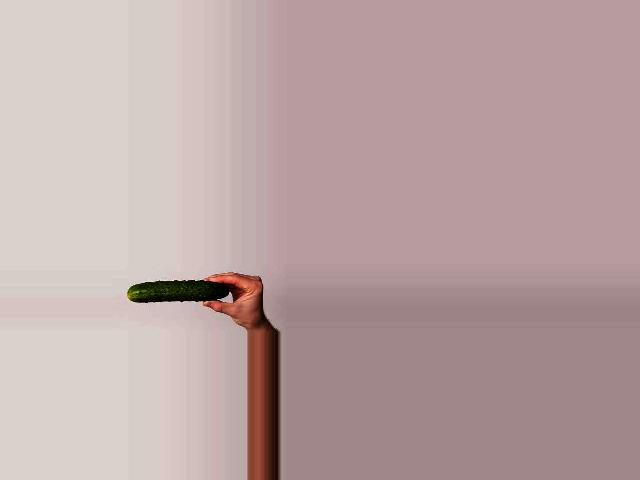cucumber: (128, 280, 229, 301)
